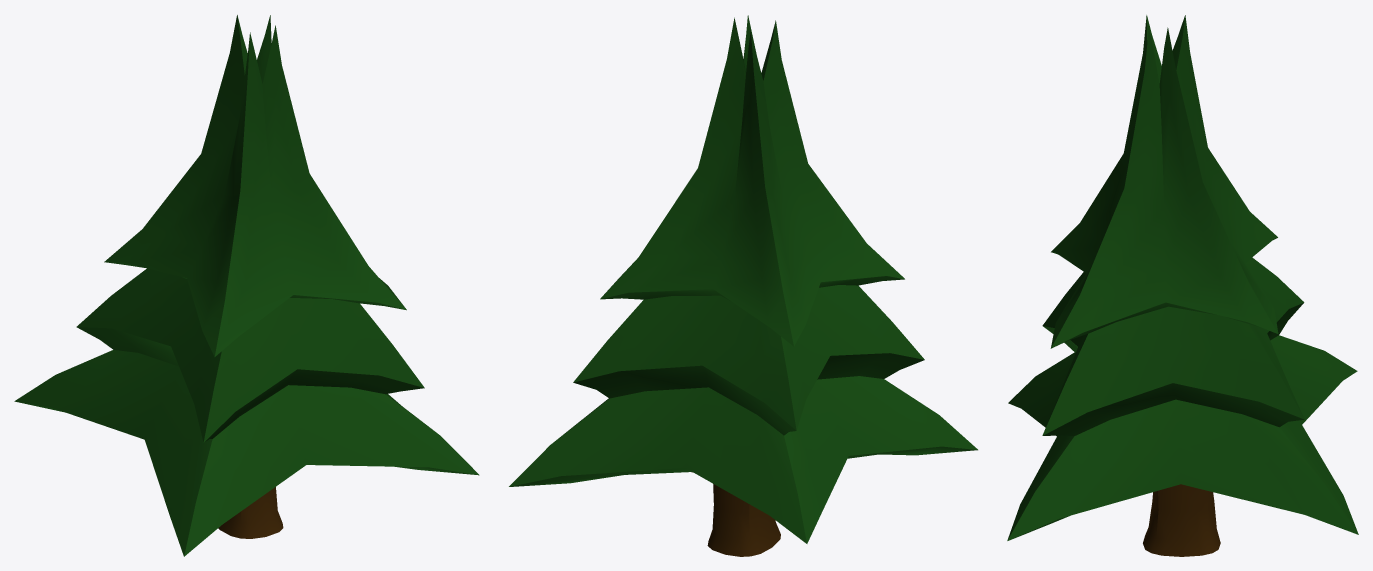
Rendered from Tree1.fbx.
The picture shows the model from 3 angles, left to right: view 1: azimuth 30°, elevation 25°; view 2: azimuth 150°, elevation 25°; view 3: azimuth 270°, elevation 25°; orthographic projection. The views are drawn at different scales.
Parts seen in each view (by area): view 1: Tree1; view 2: Tree1; view 3: Tree1.
Part boxes in pixels (x1,y1,x2,y2): Tree1: [14, 15, 479, 556]; Tree1: [509, 15, 977, 556]; Tree1: [1007, 15, 1358, 556].
Size of the model in its own units: 561 by 928 by 563.
